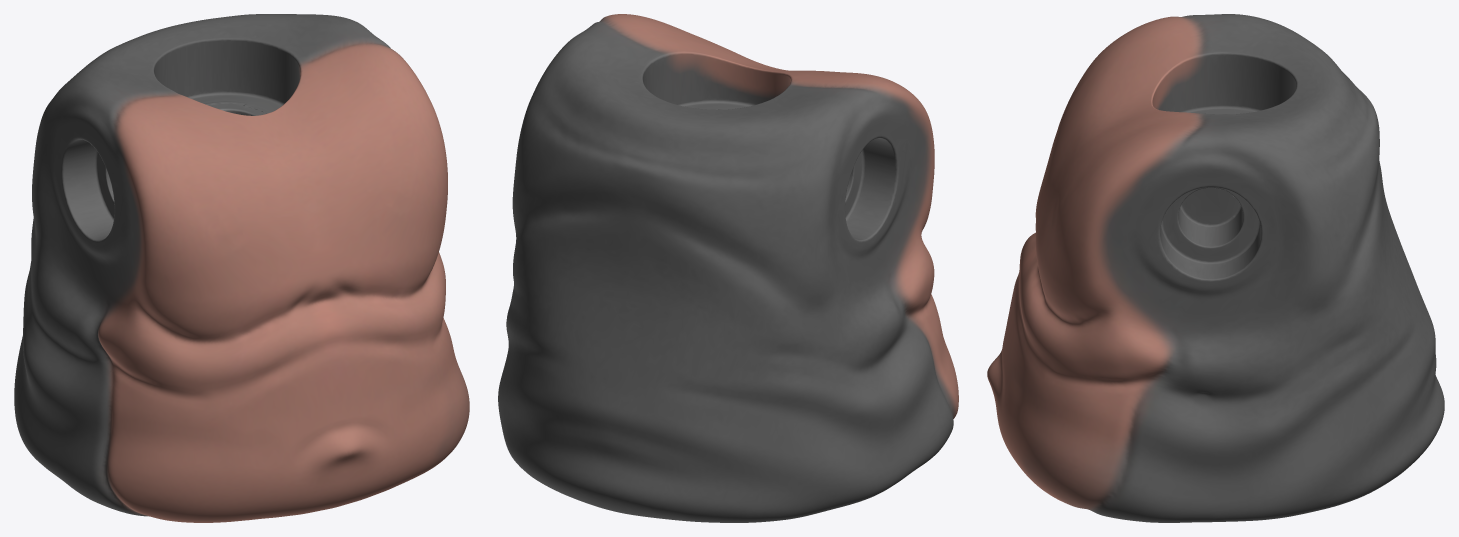
File: Buste_Hippopotame.glb
3 views of the same model, side by side, from view 1: azimuth 30°, elevation 25°; view 2: azimuth 150°, elevation 25°; view 3: azimuth 270°, elevation 25° (orthographic). The views are drawn at different scales.
Visible parts, largest first — view 1: Buste_Hippopotame; view 2: Buste_Hippopotame; view 3: Buste_Hippopotame.
Boxes of the visible parts, x1=… form: Buste_Hippopotame: x1=14, y1=14, x2=469, y2=522; Buste_Hippopotame: x1=498, y1=14, x2=958, y2=522; Buste_Hippopotame: x1=987, y1=14, x2=1444, y2=522.
Size of the model in its own units: 3.79 by 3.65 by 4.08.
